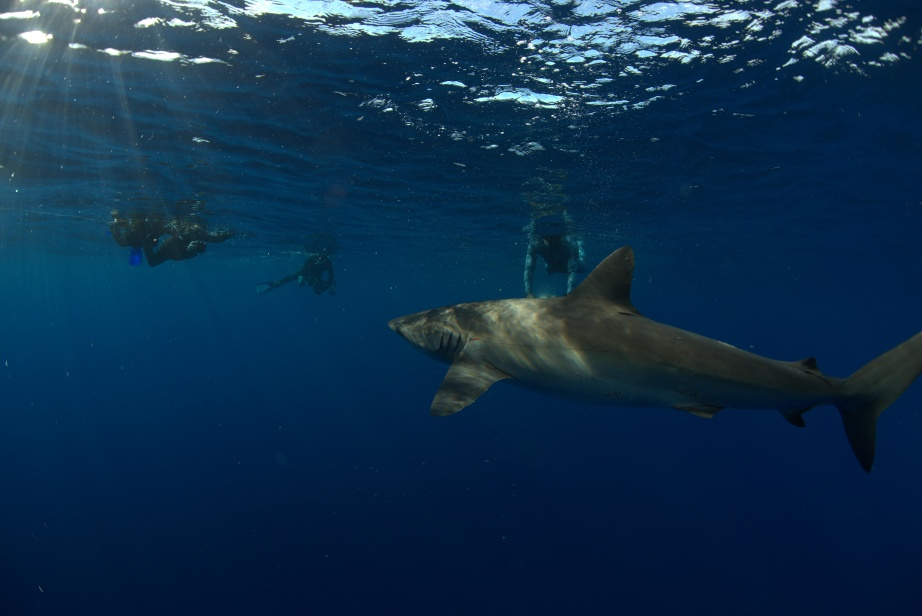Sedoso: (354, 246, 922, 468)
